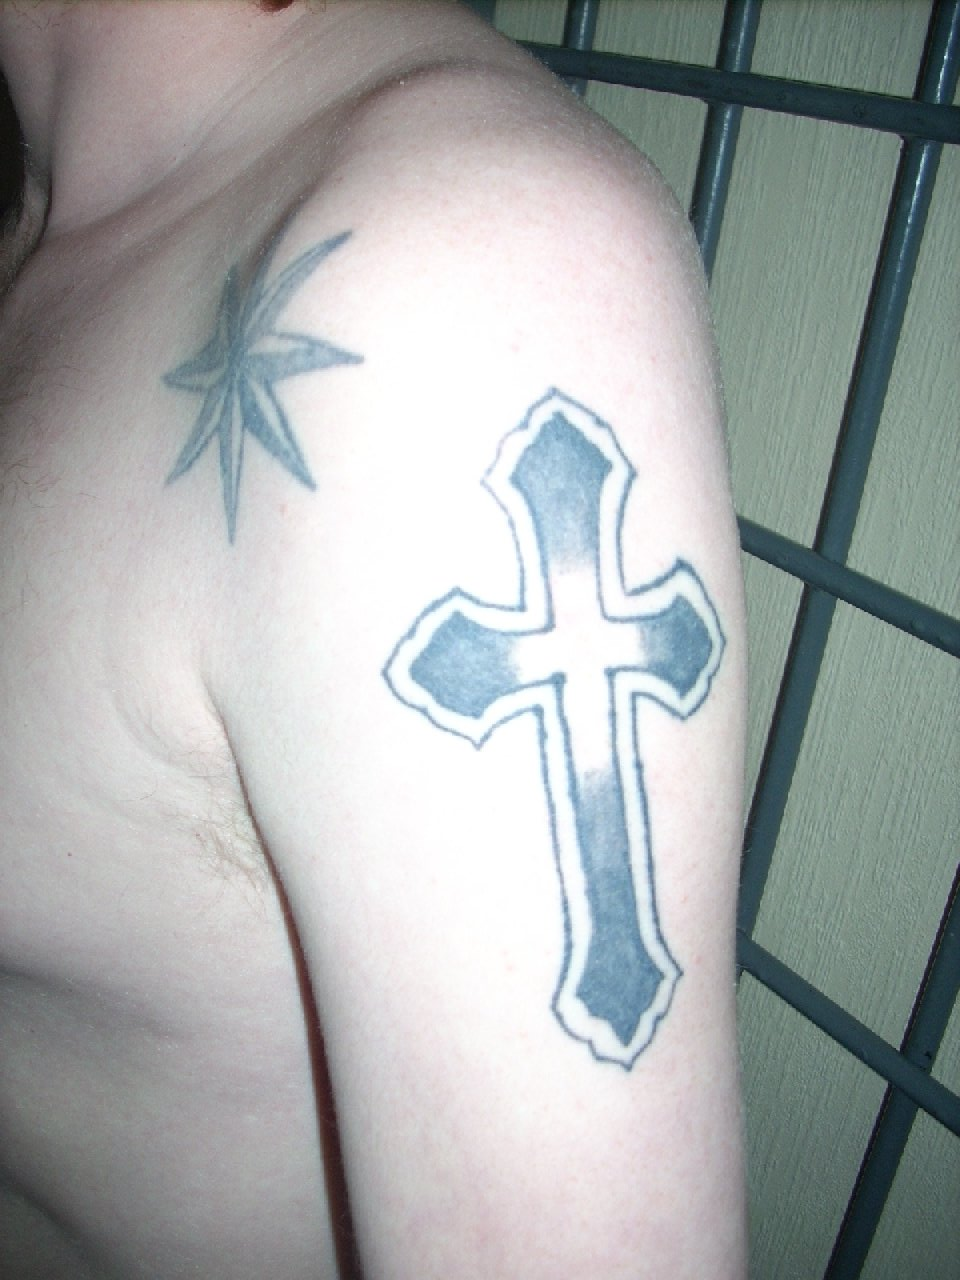tatu4_zvezda: (171, 226, 386, 510)
tatu9_krest: (387, 413, 726, 1084)
